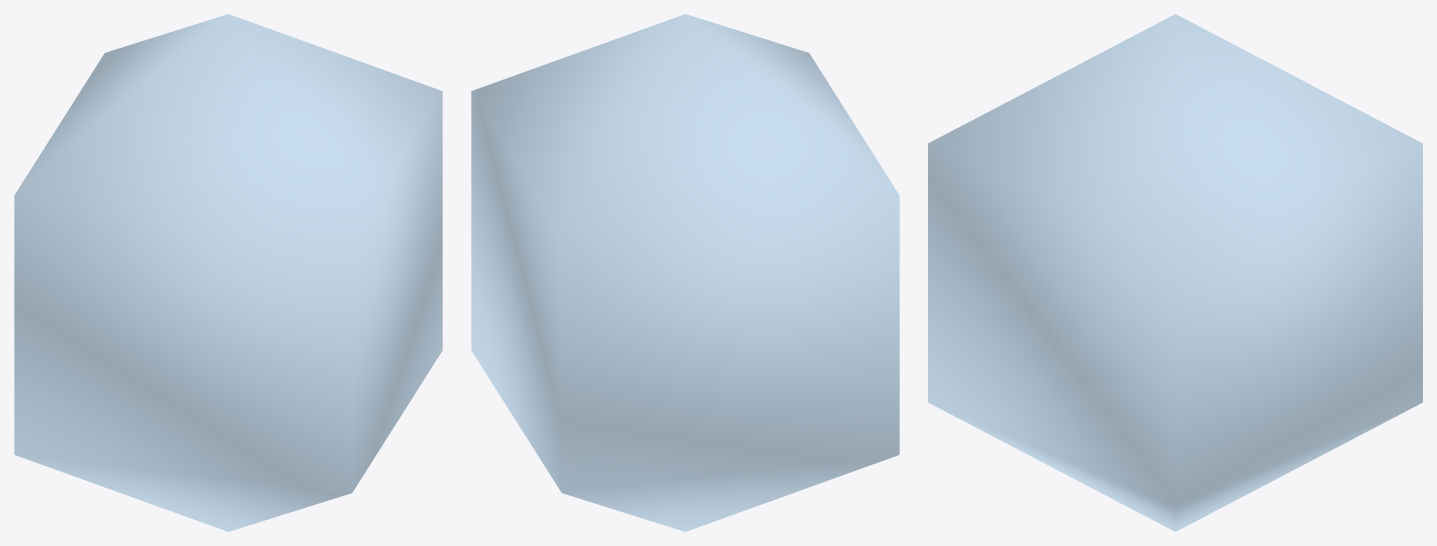
The model's file is star.glb.
The picture shows the model from 3 angles, left to right: view 1: azimuth 30°, elevation 25°; view 2: azimuth 150°, elevation 25°; view 3: azimuth 270°, elevation 25°; orthographic projection.
Size of the model in its own units: 0.866 by 1 by 0.866.
